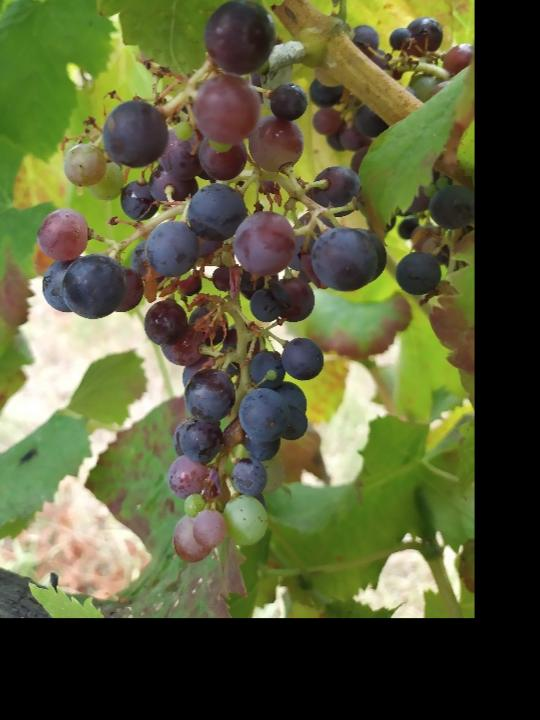grape: (27, 0, 391, 564)
